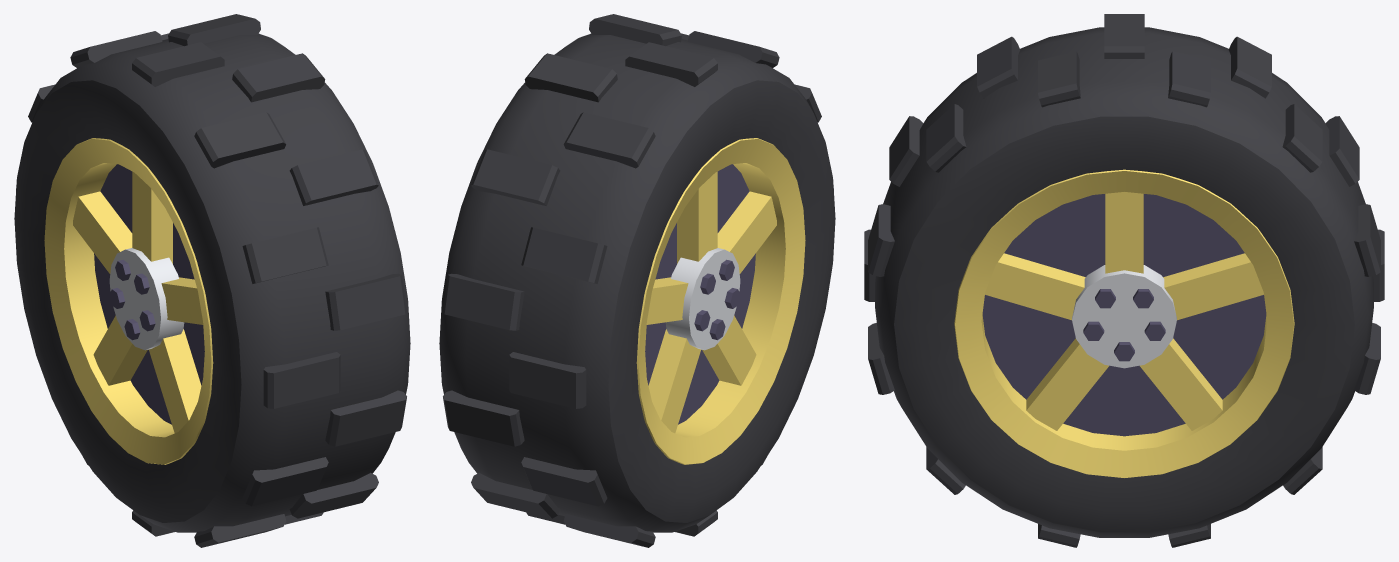
File: kart_wheel.glb
3 views of the same model, side by side, from view 1: azimuth 30°, elevation 25°; view 2: azimuth 150°, elevation 25°; view 3: azimuth 270°, elevation 25° (orthographic).
Parts seen in each view (by area): view 1: wheel_rubber, wheel_accent, wheel_trim, wheel_chrome; view 2: wheel_rubber, wheel_accent, wheel_trim, wheel_chrome; view 3: wheel_rubber, wheel_accent, wheel_trim, wheel_chrome.
Part boxes in pixels (x1,y1,x2,y2): wheel_rubber: [14, 14, 410, 547]; wheel_accent: [44, 138, 213, 464]; wheel_trim: [94, 164, 204, 424]; wheel_chrome: [109, 248, 184, 350]; wheel_rubber: [439, 14, 835, 547]; wheel_accent: [636, 138, 805, 464]; wheel_trim: [645, 164, 755, 424]; wheel_chrome: [665, 248, 740, 350]; wheel_rubber: [864, 14, 1384, 547]; wheel_accent: [954, 169, 1294, 477]; wheel_trim: [982, 194, 1266, 436]; wheel_chrome: [1072, 265, 1176, 368].
Size of the model in its own units: 0.22 by 0.546 by 0.546.
